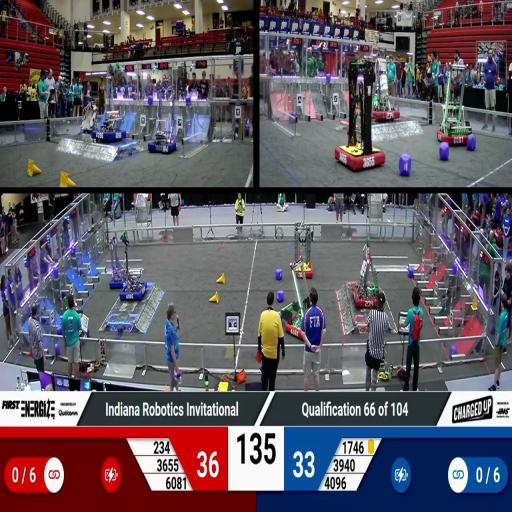robot: (334, 55, 386, 170), (435, 62, 474, 147), (285, 258, 320, 345), (116, 231, 150, 302), (369, 50, 401, 123), (149, 86, 180, 156), (354, 239, 383, 309), (106, 234, 134, 290), (293, 220, 318, 280), (93, 111, 127, 143), (69, 305, 92, 339)
